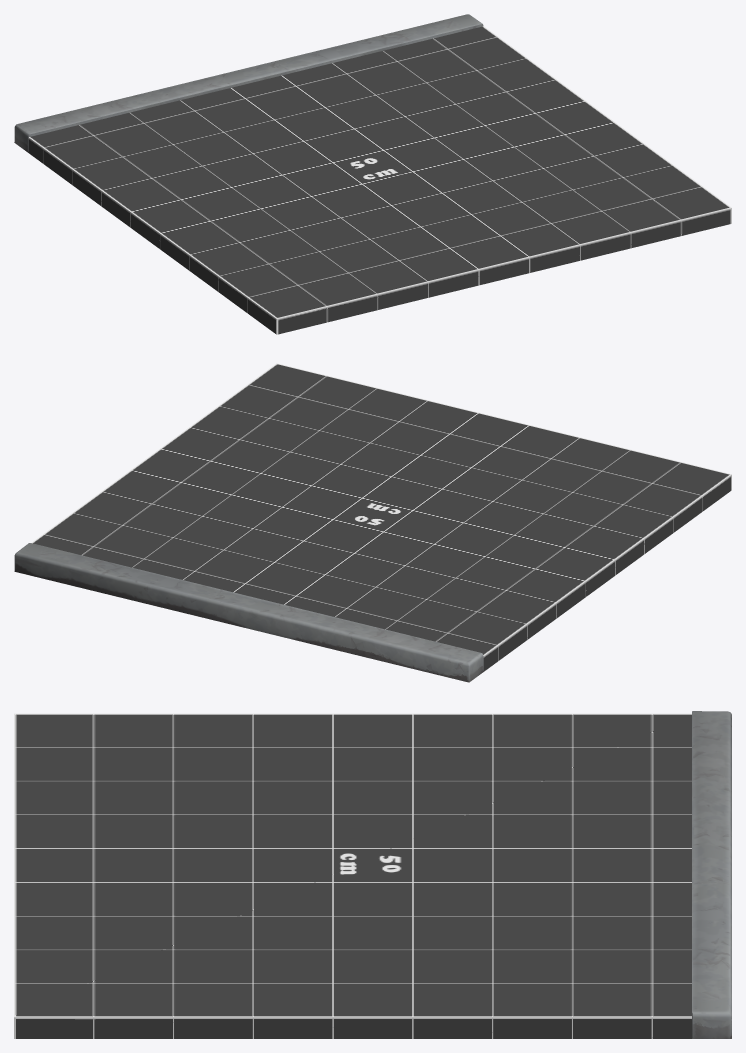
Rendered from M02SideWalk01_3.FBX.
3 views of the same model, one above another, from view 1: azimuth 30°, elevation 25°; view 2: azimuth 150°, elevation 25°; view 3: azimuth 270°, elevation 25° (orthographic). The views are drawn at different scales.
Parts seen in each view (by area): view 1: M02SideWalk01_3; view 2: M02SideWalk01_3; view 3: M02SideWalk01_3.
Part boxes in pixels (x1,y1,x2,y2): M02SideWalk01_3: [14, 14, 731, 334]; M02SideWalk01_3: [14, 363, 731, 682]; M02SideWalk01_3: [14, 711, 731, 1038].
Size of what is drawn, in the model's own units: 4.5 by 0.1783 by 4.5.
